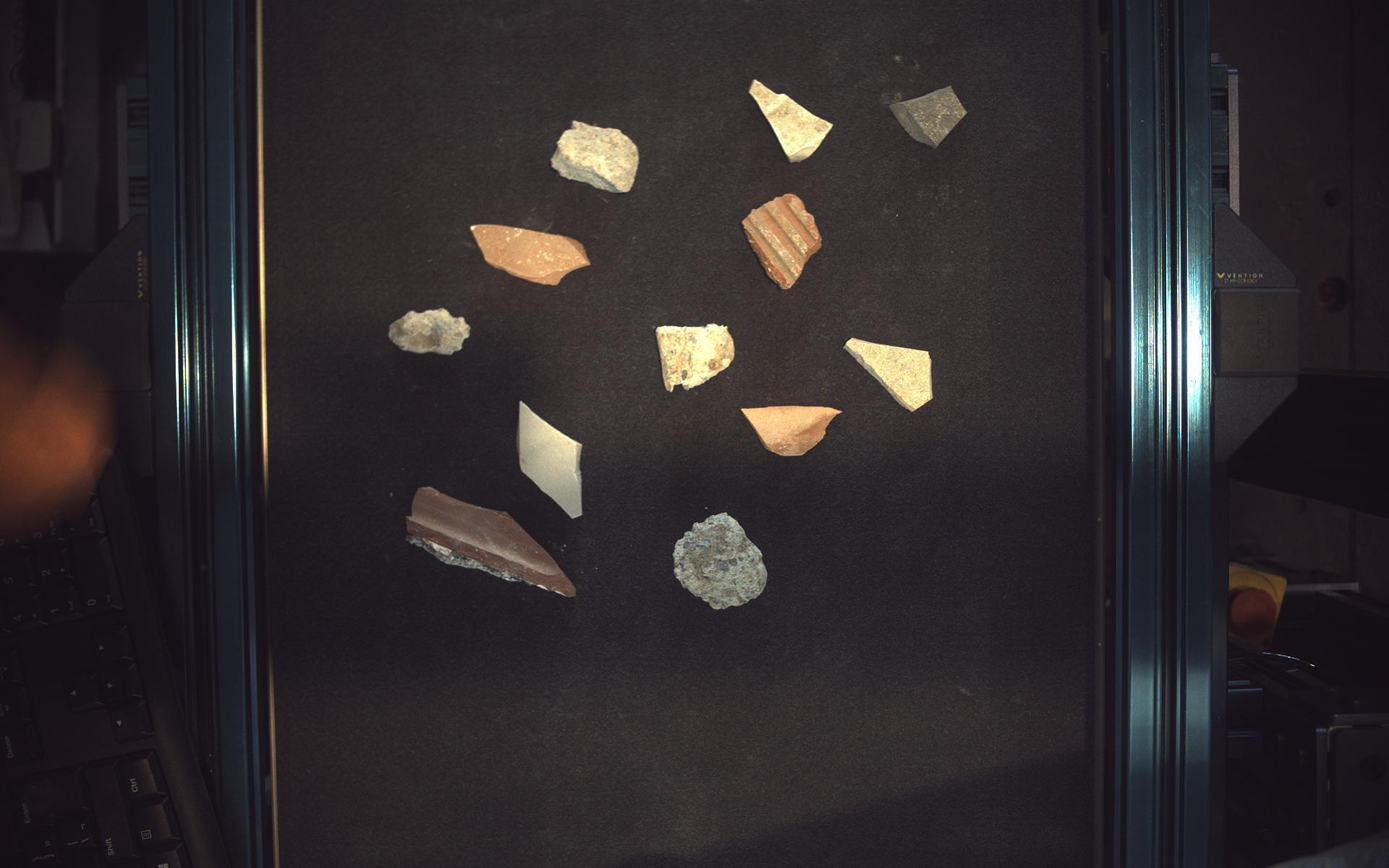brick: (407, 488, 576, 597), (744, 192, 823, 289), (471, 224, 590, 284), (743, 406, 841, 456)
concrete: (674, 513, 769, 610), (551, 120, 640, 192), (657, 323, 736, 391), (389, 308, 470, 354)
tile: (518, 401, 583, 519), (750, 79, 834, 162), (846, 338, 935, 411), (891, 85, 969, 147)
